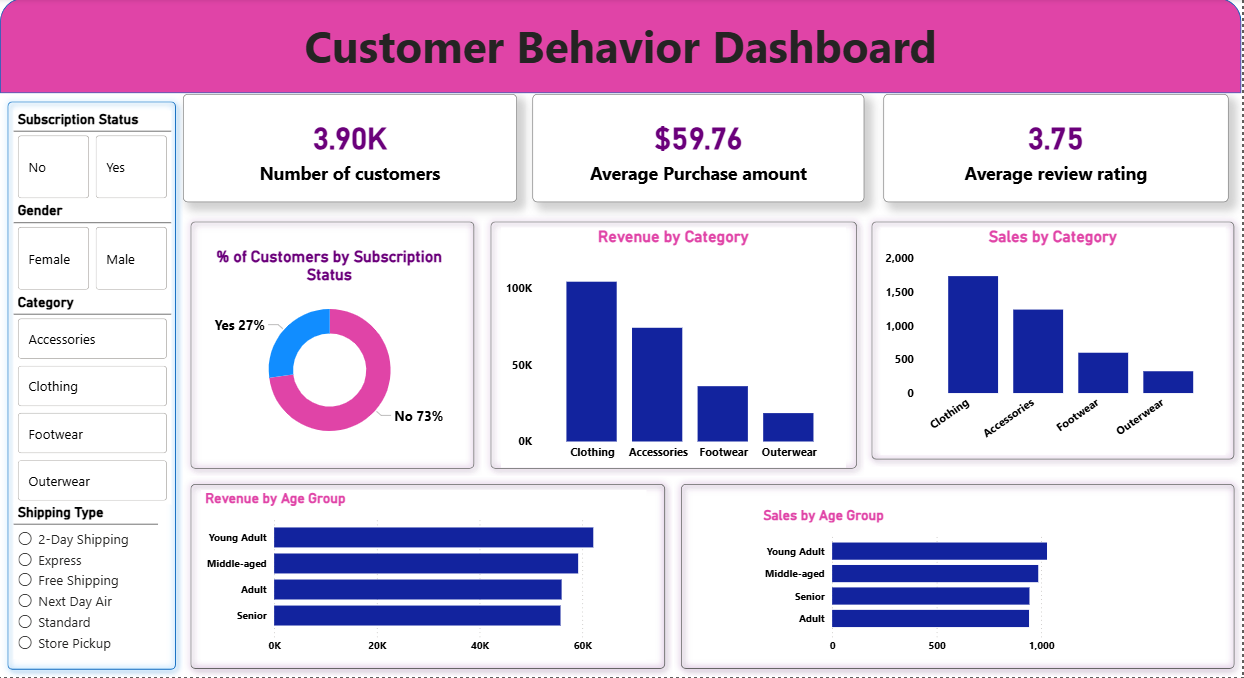

Layout of this report page (visuals, bound fields, positions):
{"tool":"powerbi","page":{"name":"Page 1","canvas":[1500,820],"ordinal":0},"visuals":[{"type":"card","fields":{"Values":["public customer_behavior.Number of customers"]},"box":[221.5,115.2,403.1,130.7],"z":0},{"type":"card","fields":{"Values":["public customer_behavior.Average Purchase amount"]},"box":[642.2,115.2,400.8,130.7],"z":1000},{"type":"card","fields":{"Values":["public customer_behavior.Average review rating"]},"box":[1067.4,115.2,416.3,130.7],"z":2000},{"type":"shape","box":[0,0,1499.3,115.2],"z":3000},{"type":"textbox","box":[0,15.5,1499.3,101.9],"z":4000},{"type":"shape","box":[582.4,261.3,460.6,316.7],"z":5000},{"type":"donutChart","title":"% of Customers by Subscription Status","fields":{"Category":["public customer_behavior.subscription_status"],"Y":["CountNonNull(public customer_behavior.customer_id)"]},"box":[243.6,301.2,310,252.5],"z":6000},{"type":"shape","box":[221.5,261.3,361,316.7],"z":7000},{"type":"shape","box":[1043.1,261.3,456.2,305.6],"z":8000},{"type":"clusteredColumnChart","title":"Revenue by Category","fields":{"Y":["Sum(public customer_behavior.purchase_amount)"],"Category":["public customer_behavior.category"]},"box":[604.6,276.8,416.3,290.1],"z":9000},{"type":"clusteredColumnChart","title":"Sales by Category","fields":{"Category":["public customer_behavior.category"],"Y":["CountNonNull(public customer_behavior.customer_id)"]},"box":[1063,276.8,416.3,274.6],"z":10000},{"type":"shape","box":[0,115.2,221.5,704.2],"z":11000},{"type":"advancedSlicerVisual","title":"Subscription Status","fields":{"Values":["public customer_behavior.subscription_status"]},"box":[15.5,135.1,190.5,110.7],"z":12000},{"type":"advancedSlicerVisual","title":"Gender","fields":{"Values":["public customer_behavior.gender"]},"box":[15.5,245.8,190.5,110.7],"z":13000},{"type":"advancedSlicerVisual","title":"Category","fields":{"Values":["public customer_behavior.category"]},"box":[15.5,356.5,190.5,254.7],"z":14000},{"type":"listSlicer","title":"Shipping Type","fields":{"Values":["public customer_behavior.shipping_type"]},"box":[15.5,611.2,175,188.2],"z":15000},{"type":"shape","box":[221.5,578,591.3,241.4],"z":15001},{"type":"clusteredBarChart","title":"Revenue by Age Group","fields":{"Y":["Sum(public customer_behavior.purchase_amount)"],"Category":["public customer_behavior.age_group"]},"box":[243.6,593.5,538.1,206],"z":15002},{"type":"clusteredBarChart","title":"Sales by Age Group","fields":{"Category":["public customer_behavior.age_group"],"Y":["CountNonNull(public customer_behavior.customer_id)"]},"box":[916.8,613.4,411.9,186],"z":15003},{"type":"shape","box":[812.8,578,686.5,241.4],"z":15004}]}

Visuals, with their boxes in screenshot pixels (x1, y1, x2, y2), scaled from the page's 1500x820 canvas onto the 1244x678 screenshot:
card - public customer_behavior.Number of customers: detection(184, 95, 518, 203)
card - public customer_behavior.Average Purchase amount: detection(533, 95, 865, 203)
card - public customer_behavior.Average review rating: detection(885, 95, 1230, 203)
shape: detection(0, 0, 1243, 95)
textbox: detection(0, 13, 1243, 97)
shape: detection(483, 216, 865, 478)
"% of Customers by Subscription Status" donutChart: detection(202, 249, 459, 458)
shape: detection(184, 216, 483, 478)
shape: detection(865, 216, 1243, 469)
"Revenue by Category" clusteredColumnChart: detection(501, 229, 847, 469)
"Sales by Category" clusteredColumnChart: detection(882, 229, 1227, 456)
shape: detection(0, 95, 184, 677)
"Subscription Status" advancedSlicerVisual: detection(13, 112, 171, 203)
"Gender" advancedSlicerVisual: detection(13, 203, 171, 295)
"Category" advancedSlicerVisual: detection(13, 295, 171, 505)
"Shipping Type" listSlicer: detection(13, 505, 158, 661)
shape: detection(184, 478, 674, 677)
"Revenue by Age Group" clusteredBarChart: detection(202, 491, 648, 661)
"Sales by Age Group" clusteredBarChart: detection(760, 507, 1102, 661)
shape: detection(674, 478, 1243, 677)
